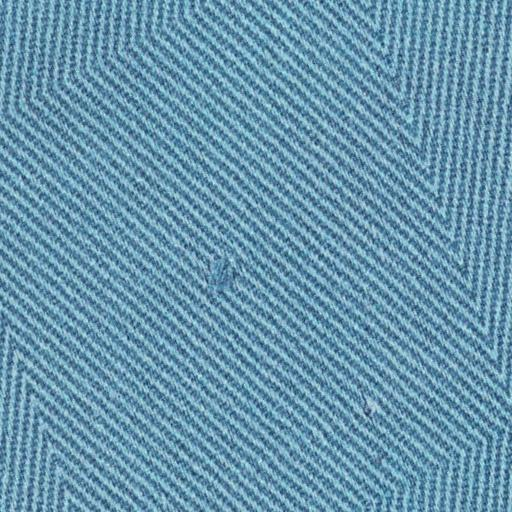knot: (192, 249, 244, 304)
